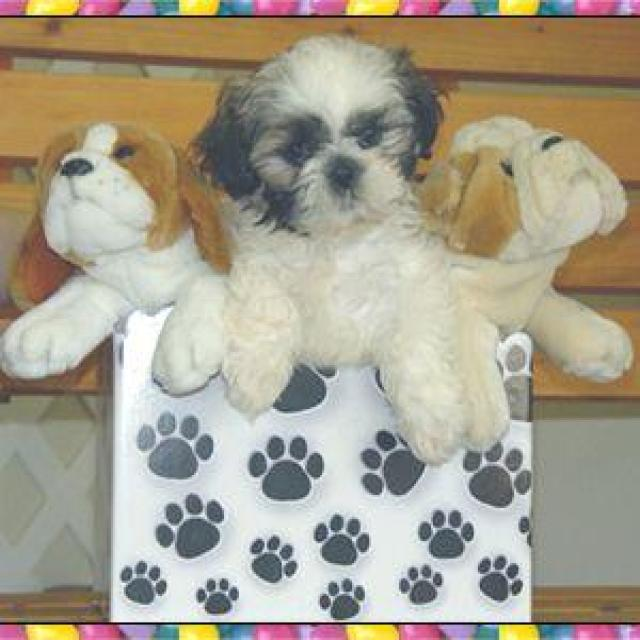shih_tzu: (183, 29, 463, 468)
